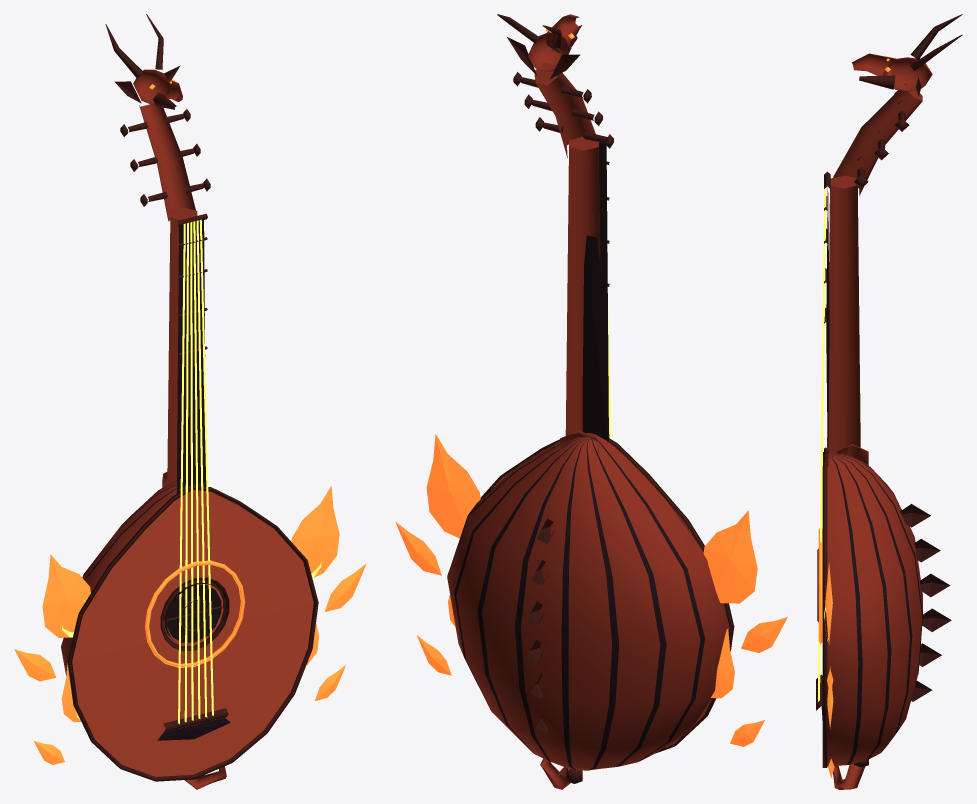
File: lute_4.glb
3 renders of one model, left to right at view 1: azimuth 30°, elevation 25°; view 2: azimuth 150°, elevation 25°; view 3: azimuth 270°, elevation 25°, orthographic. The views are drawn at different scales.
Visible parts, largest first — view 1: lute_4; view 2: lute_4; view 3: lute_4.
Boxes of the visible parts, bbox=[...] form: lute_4: bbox=[14, 14, 366, 789]; lute_4: bbox=[395, 14, 787, 789]; lute_4: bbox=[816, 14, 962, 789].
Size of the model in its own units: 0.3813 by 0.7599 by 0.1335.
